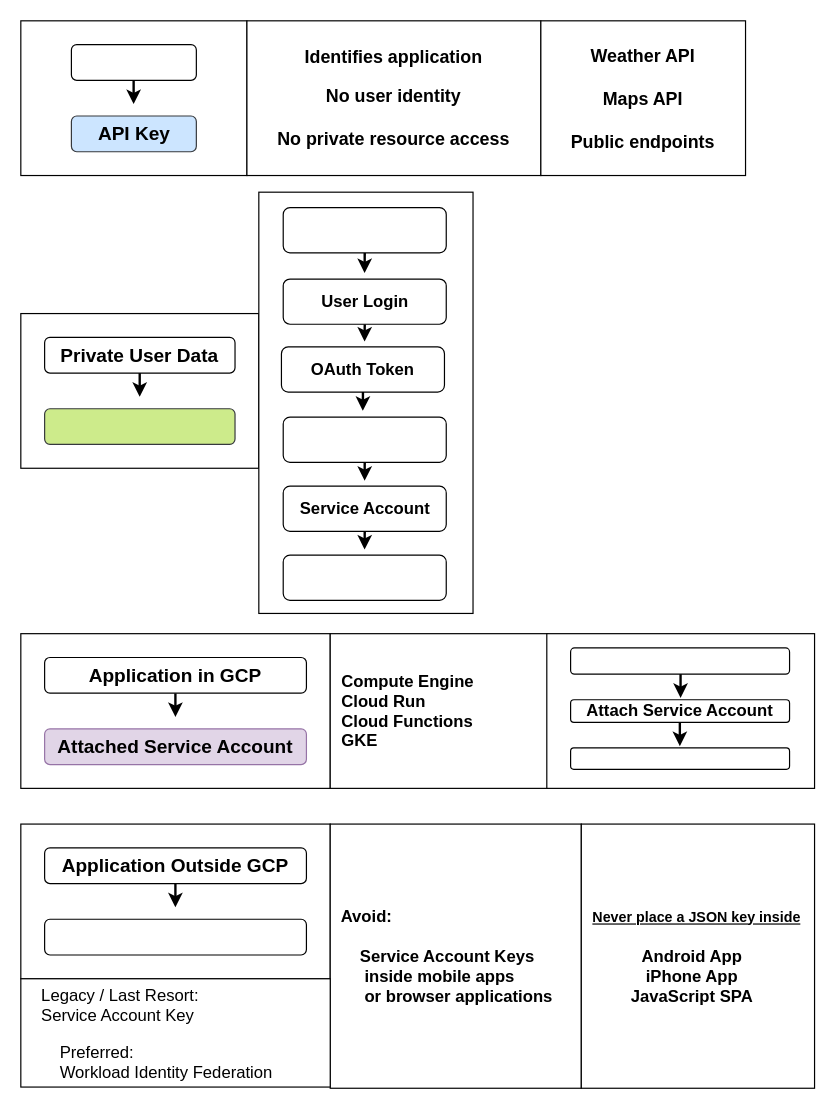
Some shapes in this 835 by 1109 pixel diagram are drawn without their labels. The shapes that lost their labels are listed below. From the top down, each one's centre as x and y in pixels, then its label:
(133,61): Public Data
(364,229): Mobile App
(139,426): OAuth 2.0
(364,439): Backend
(364,577): Pub/Sub
(679,660): Resource already in GCP
(679,758): Access APIs
(174,936): Workload Identity Federation
